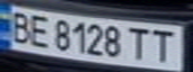1: (66, 19, 87, 55)
2: (84, 20, 106, 57)
8: (103, 22, 127, 60), (51, 17, 72, 52)
B: (3, 8, 36, 44)
E: (24, 12, 54, 48)
T: (148, 26, 181, 63), (124, 25, 154, 61)
